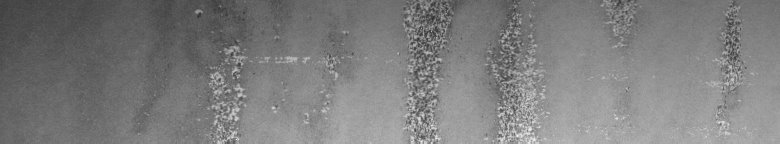hc: (195, 8, 344, 136)
